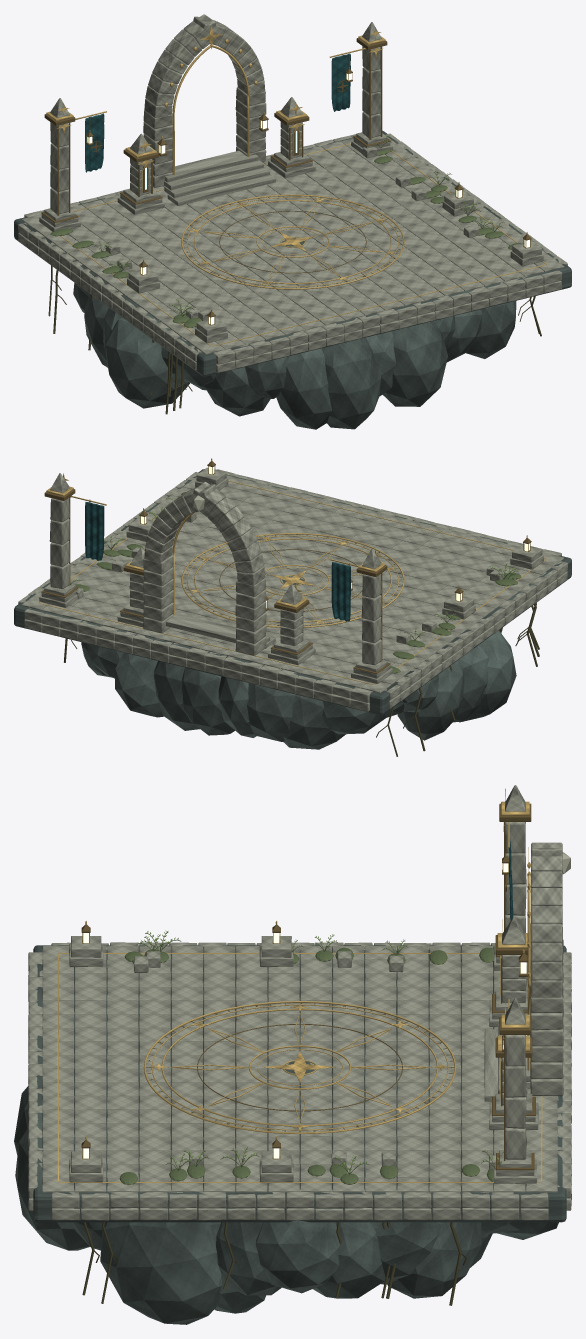
File: temple.glb
3 views of the same model, one above another, from view 1: azimuth 30°, elevation 25°; view 2: azimuth 150°, elevation 25°; view 3: azimuth 270°, elevation 25° (orthographic). The views are drawn at different scales.
Parts seen in each view (by area): view 1: Hanging_basalt.017, Hanging_basalt.023, Hanging_basalt.025, Hanging_basalt.022, Foundation, Hanging_basalt.020, Hanging_basalt.029, Hanging_basalt.021, Portal_steps.003, Hanging_basalt.027, Hanging_basalt.024, Hanging_basalt.015 (+9 smaller); view 2: Foundation, Hanging_basalt.015, Hanging_basalt.008, Hanging_basalt.006, Hanging_basalt.017, Hanging_basalt.010, Hanging_basalt.011, Hanging_basalt.007, Hanging_basalt.016, Hanging_basalt.009, Hanging_basalt.012, Hanging_teal_pennant (+21 smaller); view 3: Hanging_basalt.029, Foundation, Hanging_basalt, Hanging_basalt.003, Hanging_basalt.001, Hanging_basalt.031, Hanging_basalt.002, Hanging_basalt.025, Mosaic_inlay, Mosaic_inlay.002, Mosaic_inlay.001, Hanging_basalt.030 (+6 smaller).
Part boxes in pixels (x1,y1,x2,y2): Hanging_basalt.017: (105,317,189,408); Hanging_basalt.023: (322,337,381,429); Hanging_basalt.025: (382,321,447,406); Hanging_basalt.022: (276,348,331,429); Foundation: (14,130,571,376); Hanging_basalt.020: (204,367,270,416); Hanging_basalt.029: (466,300,516,358); Hanging_basalt.021: (245,356,289,398); Portal_steps.003: (165,150,258,182); Hanging_basalt.027: (446,309,482,362); Hanging_basalt.024: (365,331,396,396); Hanging_basalt.015: (84,294,108,367); Foundation: (14,469,571,714); Hanging_basalt.015: (397,659,464,740); Hanging_basalt.008: (181,667,234,735); Hanging_basalt.006: (115,652,163,717); Hanging_basalt.017: (458,630,516,722); Hanging_basalt.010: (247,683,295,741); Hanging_basalt.011: (283,694,345,749); Hanging_basalt.007: (153,661,199,730); Hanging_basalt.016: (453,644,488,722); Hanging_basalt.009: (218,676,256,737); Hanging_basalt.012: (322,701,387,734); Hanging_teal_pennant: (331,562,350,621); Hanging_basalt.029: (100,1222,221,1324); Foundation: (33,945,566,1222); Hanging_basalt: (255,1220,339,1293); Hanging_basalt.003: (387,1222,481,1298); Hanging_basalt.001: (313,1222,385,1298); Hanging_basalt.031: (216,1222,281,1295); Hanging_basalt.002: (370,1222,441,1284); Hanging_basalt.025: (15,1128,89,1250); Mosaic_inlay: (143,1001,456,1134); Mosaic_inlay.002: (161,1008,438,1126); Mosaic_inlay.001: (151,1004,448,1130); Hanging_basalt.030: (210,1222,265,1313).
Bounding box in the file's own units: 22.07 × 14.69 × 19.04.
11 materials, 4 textured.
